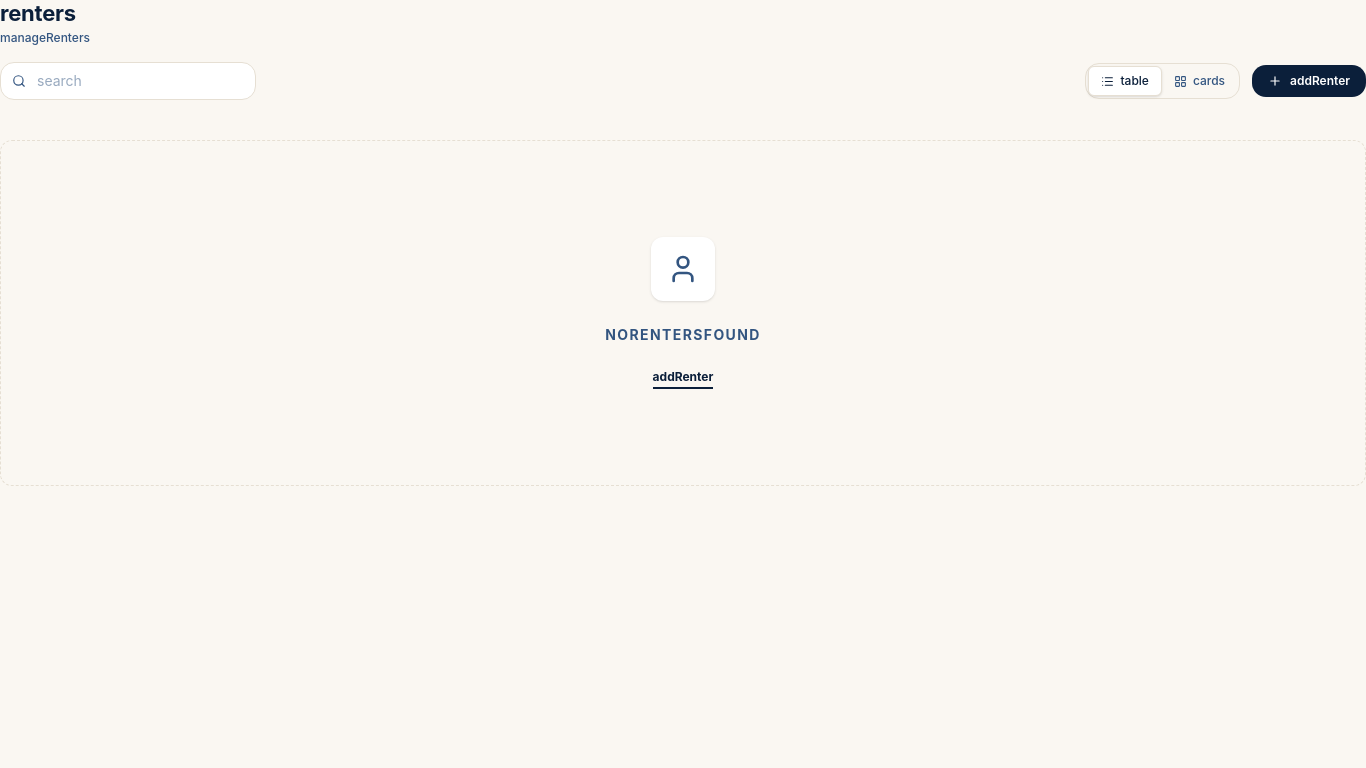
Test: RentersPage create is single-flight › two rapid form submits (Enter twice) post exactly once
Click the 1st button "addRenter": (1309, 81) top-left (1252, 65), bottom-right (1365, 97)
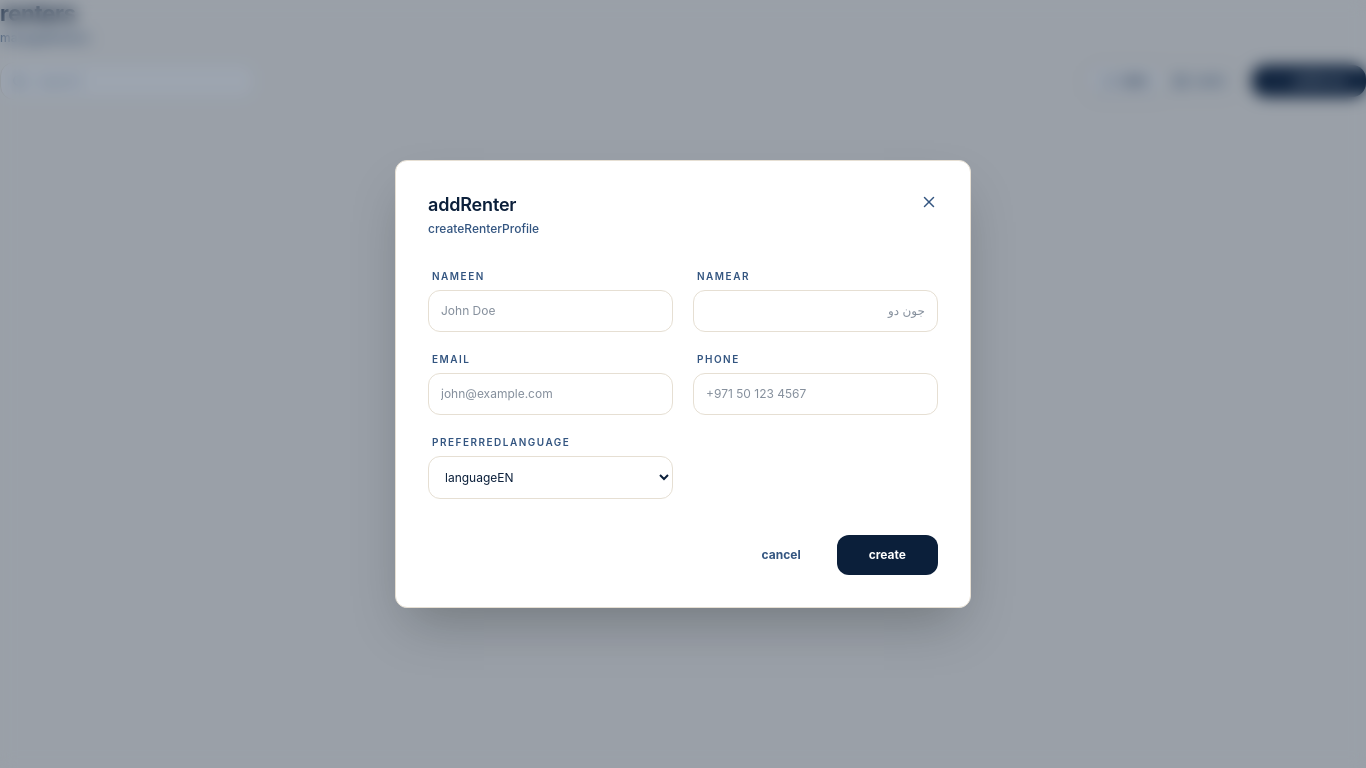
In the field with placeholder "John Doe": (550, 311) top-left (428, 290), bottom-right (673, 332), type "Double Click"
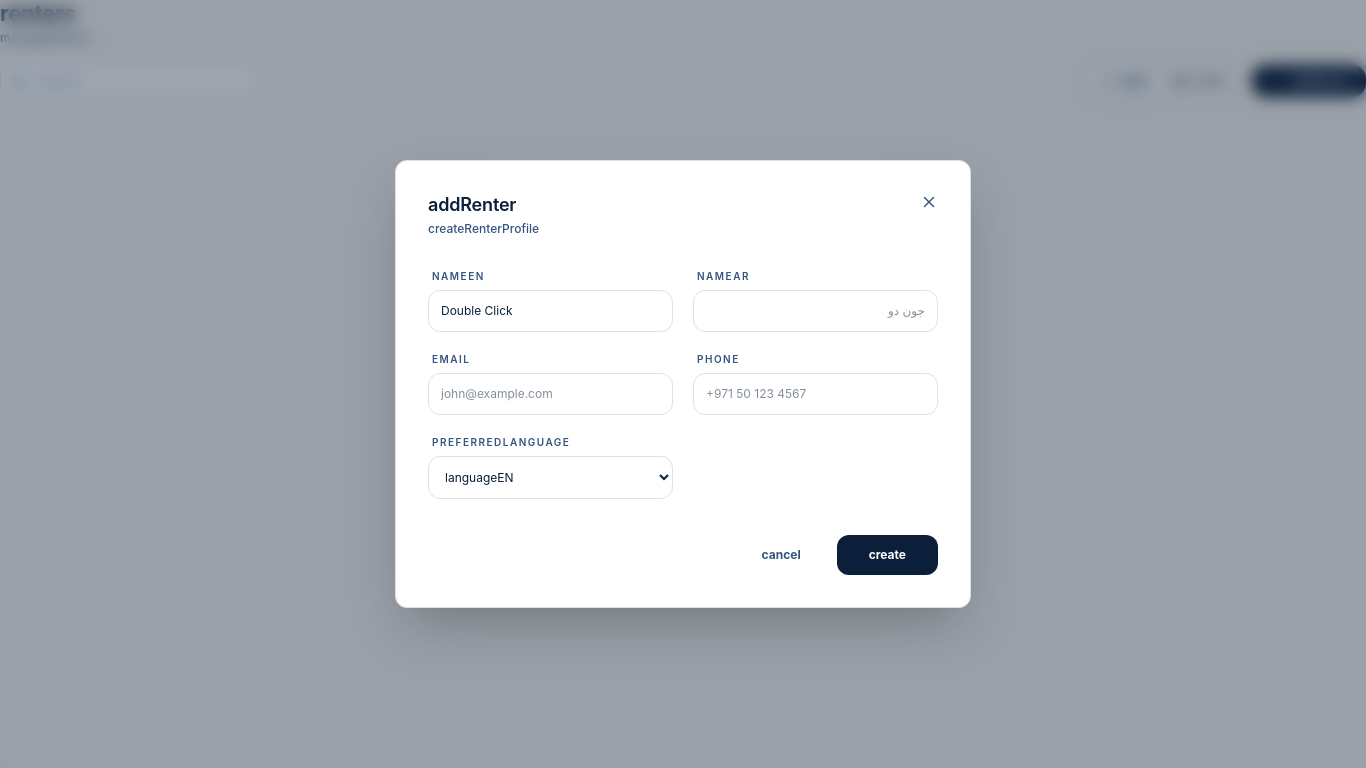
In the field with placeholder "john@example.com": (550, 394) top-left (428, 373), bottom-right (673, 415), type "dbl@x.com"
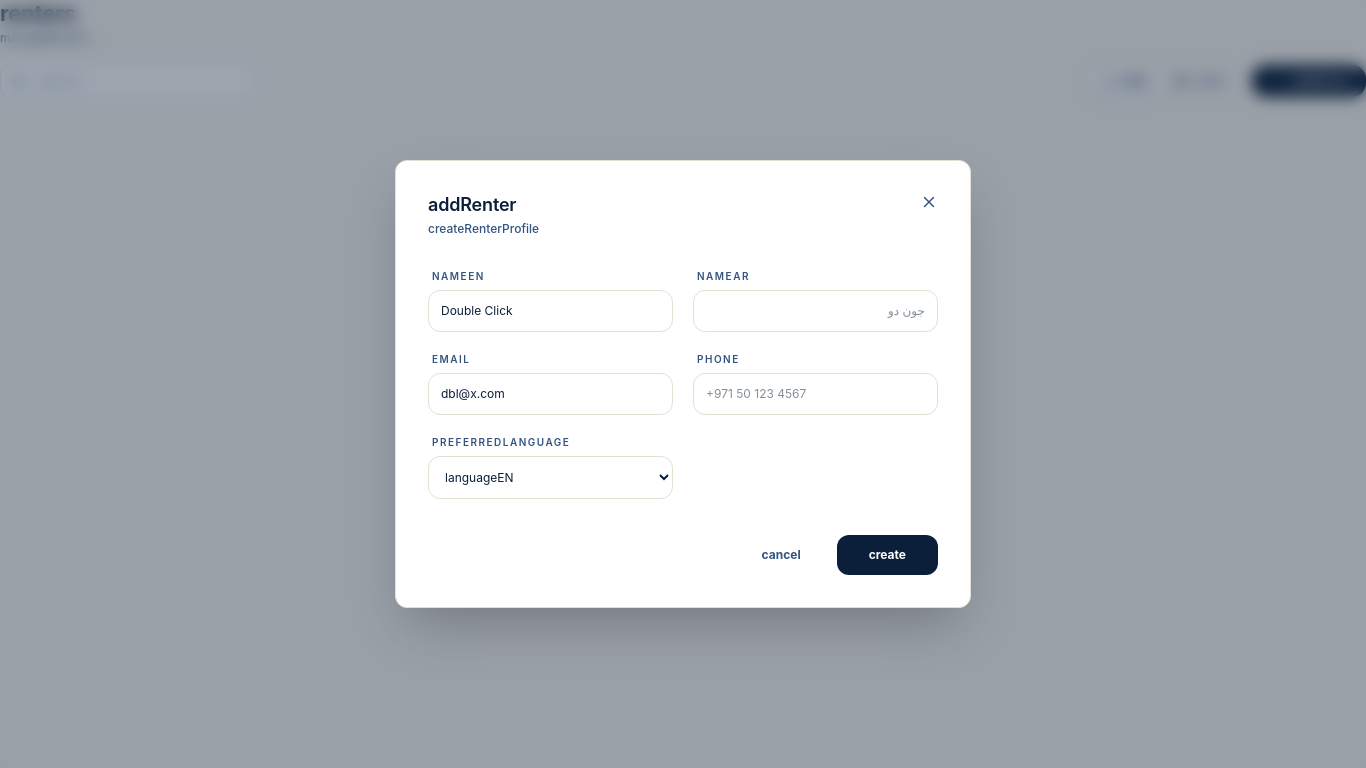
In the field with placeholder "+971 50 123 4567": (816, 394) top-left (693, 373), bottom-right (938, 415), type "050 123 4567"
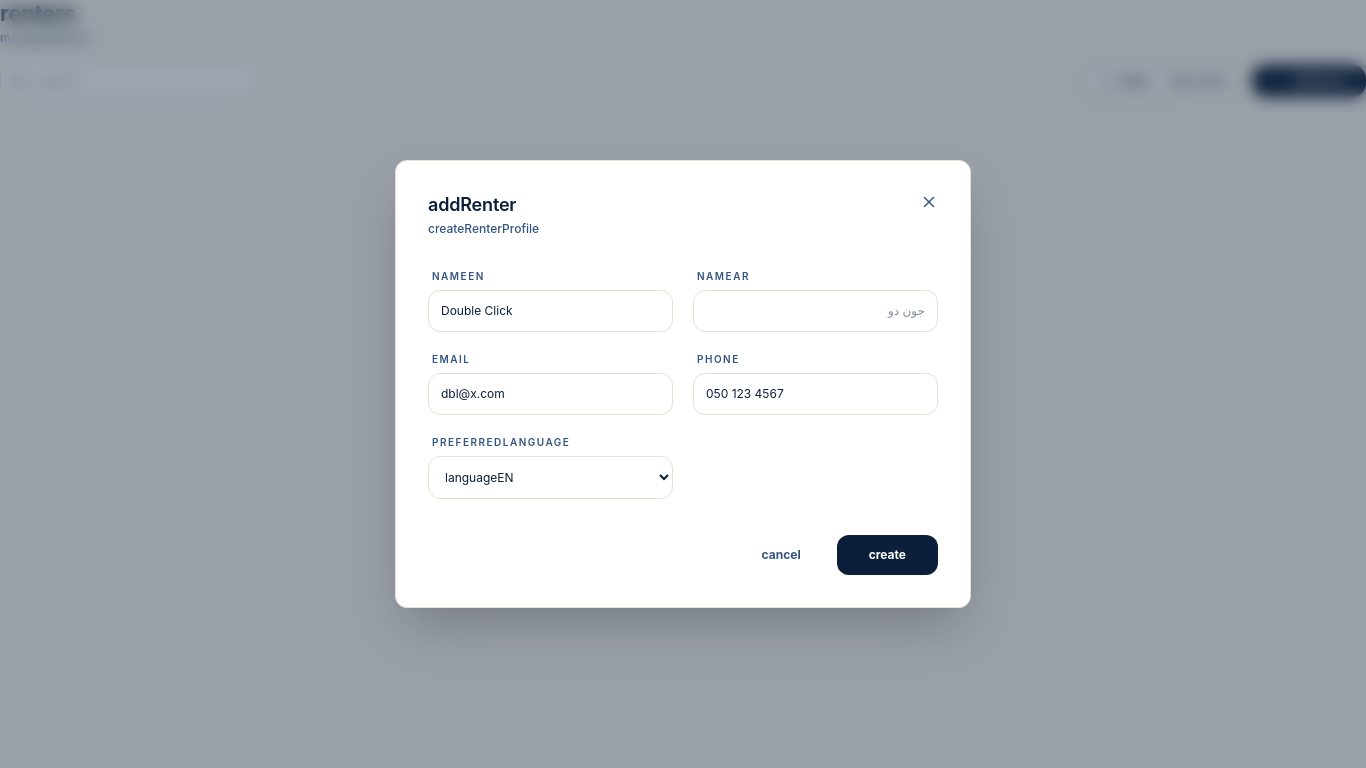
Submit the form with placeholder "John Doe", box top-left (428, 269), bottom-right (938, 575)
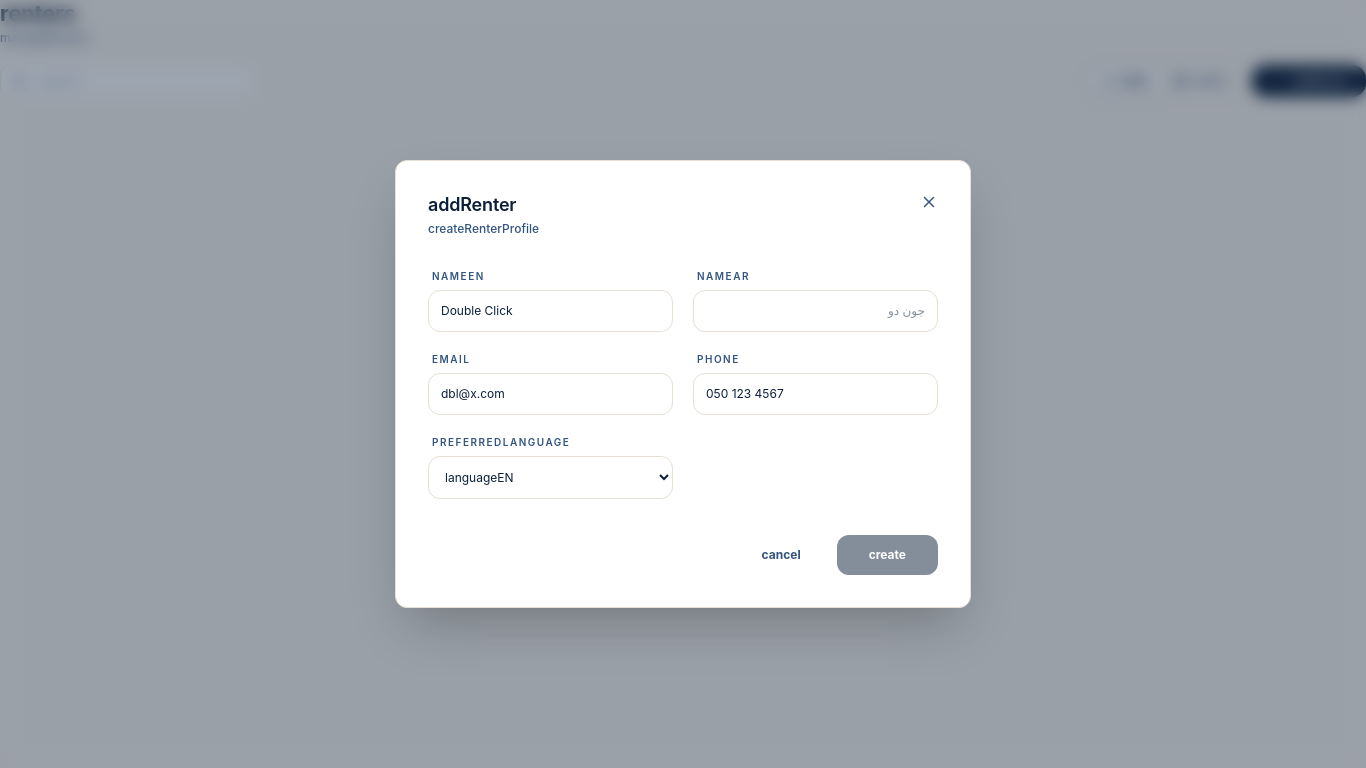
Submit the form with placeholder "John Doe", box top-left (428, 269), bottom-right (938, 575)
Submit the form with placeholder "John Doe", box top-left (428, 269), bottom-right (938, 575)
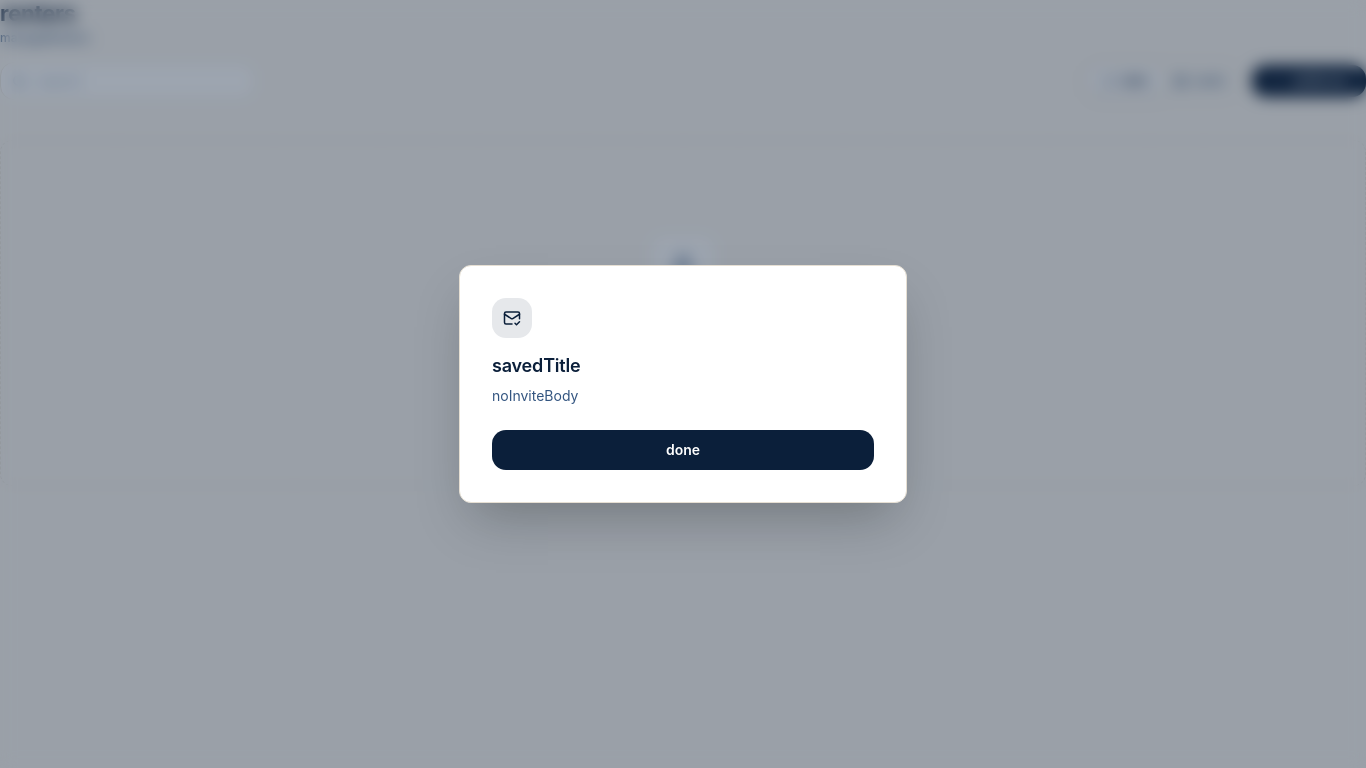
Expected: the text "noInviteBody" is shown, top-left (492, 387), bottom-right (578, 404)
